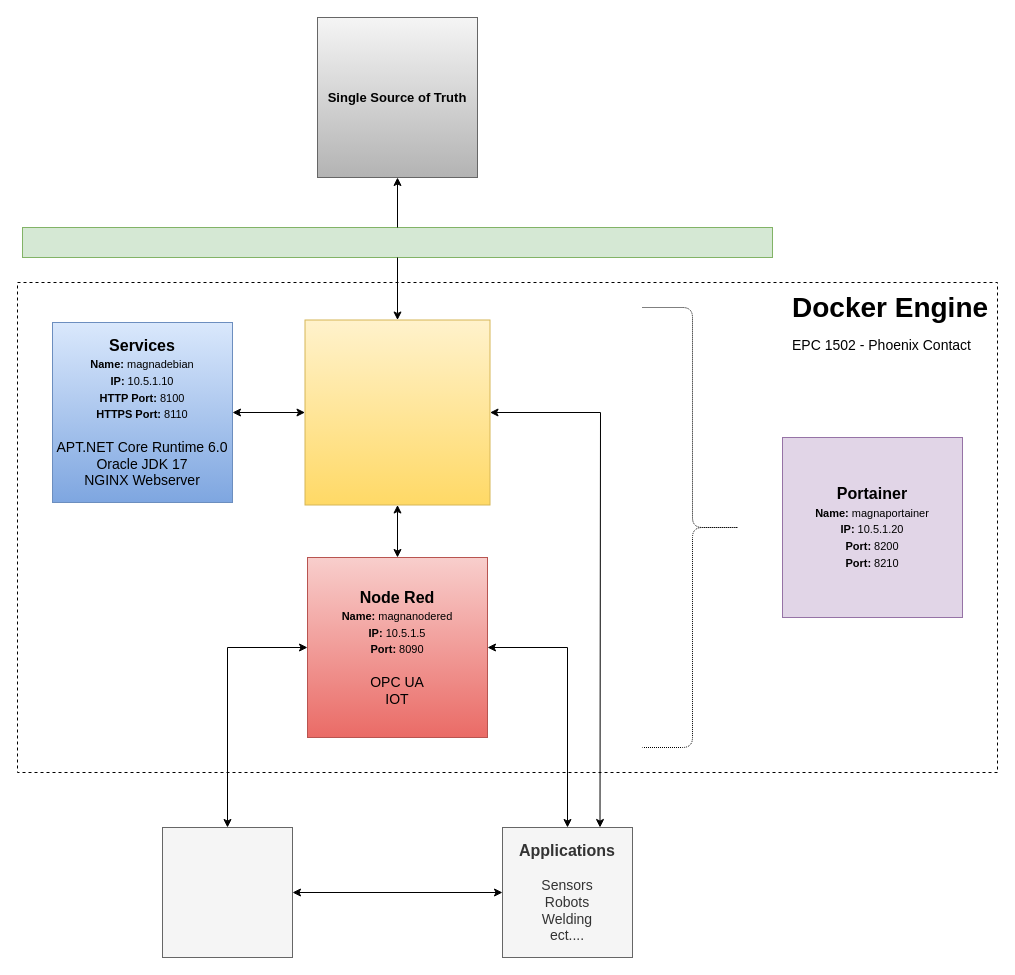
This 1015x975 diagram has some shape labels left out. The centre of each missing label's shape, as x and y in pixels:
HiveMQ Name: magnahivemq IP: 10.5.1.15 MQTT Port: 8095 Web Port: 8096: (x=397, y=412)
PLC Pressshop Assembly: (x=227, y=892)
Production Cell: (x=397, y=242)
